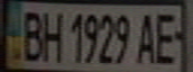1: (63, 8, 84, 63)
2: (97, 9, 118, 64)
9: (112, 9, 136, 65), (81, 8, 100, 64)
A: (133, 8, 160, 65)
B: (15, 6, 48, 62)
E: (151, 8, 184, 65)
H: (36, 7, 66, 63)
